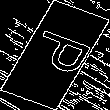P_SE: (16, 28, 94, 82)
